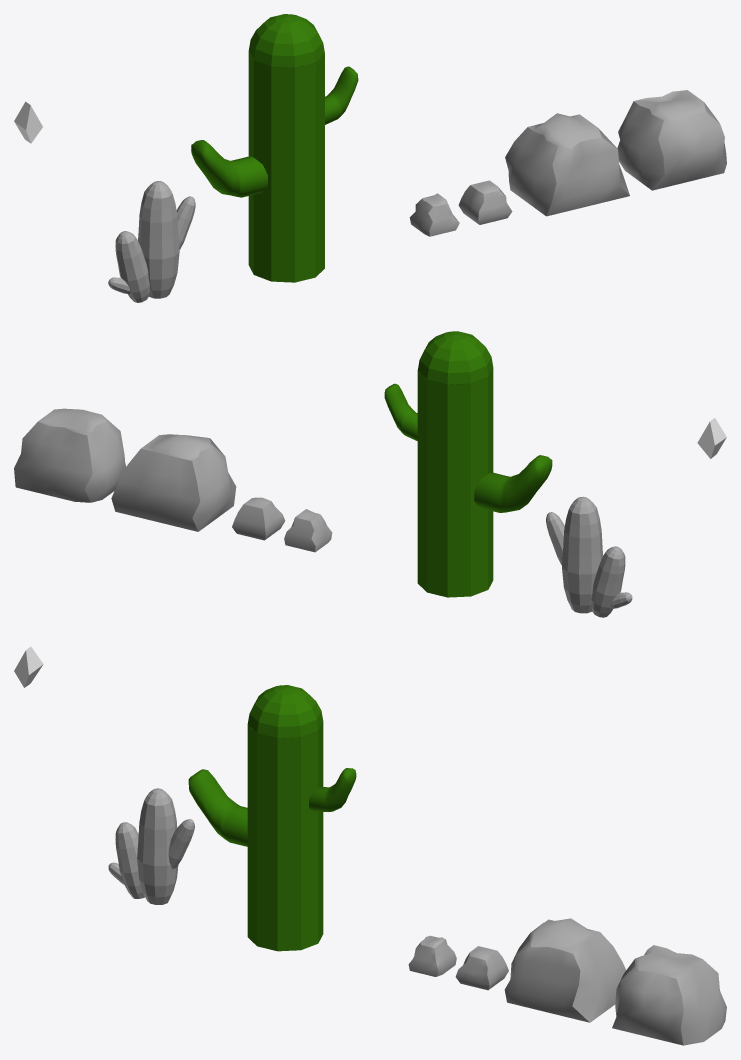
File: Assets.fbx
3 views of the same model, one above another, from view 1: azimuth 30°, elevation 25°; view 2: azimuth 150°, elevation 25°; view 3: azimuth 330°, elevation 25° (orthographic).
Parts seen in each view (by area): view 1: pSphere7, pCube4, pCube5, pSphere3, pSphere5, pCube2, pCube3, pCube1, pSphere4; view 2: pSphere7, pCube4, pCube5, pSphere3, pSphere5, pCube2, pCube3, pCube1, pSphere4; view 3: pSphere7, pCube4, pCube5, pSphere3, pCube2, pSphere5, pCube3, pSphere4, pCube1.
Boxes of the visible parts, bbox=[...] form: pSphere7: bbox=[191, 14, 358, 282]; pCube4: bbox=[505, 113, 629, 216]; pCube5: bbox=[617, 90, 726, 190]; pSphere3: bbox=[138, 181, 179, 298]; pSphere5: bbox=[115, 231, 149, 302]; pCube2: bbox=[458, 180, 512, 224]; pCube3: bbox=[409, 193, 459, 236]; pCube1: bbox=[14, 101, 42, 143]; pSphere4: bbox=[176, 196, 195, 249]; pSphere7: bbox=[384, 331, 552, 597]; pCube4: bbox=[111, 434, 236, 531]; pCube5: bbox=[14, 408, 125, 502]; pSphere3: bbox=[562, 496, 603, 613]; pSphere5: bbox=[591, 546, 625, 617]; pCube2: bbox=[232, 497, 285, 540]; pCube3: bbox=[284, 509, 332, 552]; pCube1: bbox=[697, 418, 726, 458]; pSphere4: bbox=[546, 512, 564, 565]; pSphere7: bbox=[188, 685, 356, 951]; pCube4: bbox=[504, 918, 626, 1022]; pCube5: bbox=[612, 945, 726, 1045]; pSphere3: bbox=[137, 788, 178, 904]; pCube2: bbox=[455, 946, 508, 990]; pSphere5: bbox=[115, 822, 144, 898]; pCube3: bbox=[408, 935, 456, 976]; pSphere4: bbox=[168, 819, 194, 868]; pCube1: bbox=[14, 646, 43, 687].
Size of the model in its own units: 21.02 by 7.18 by 2.48.
